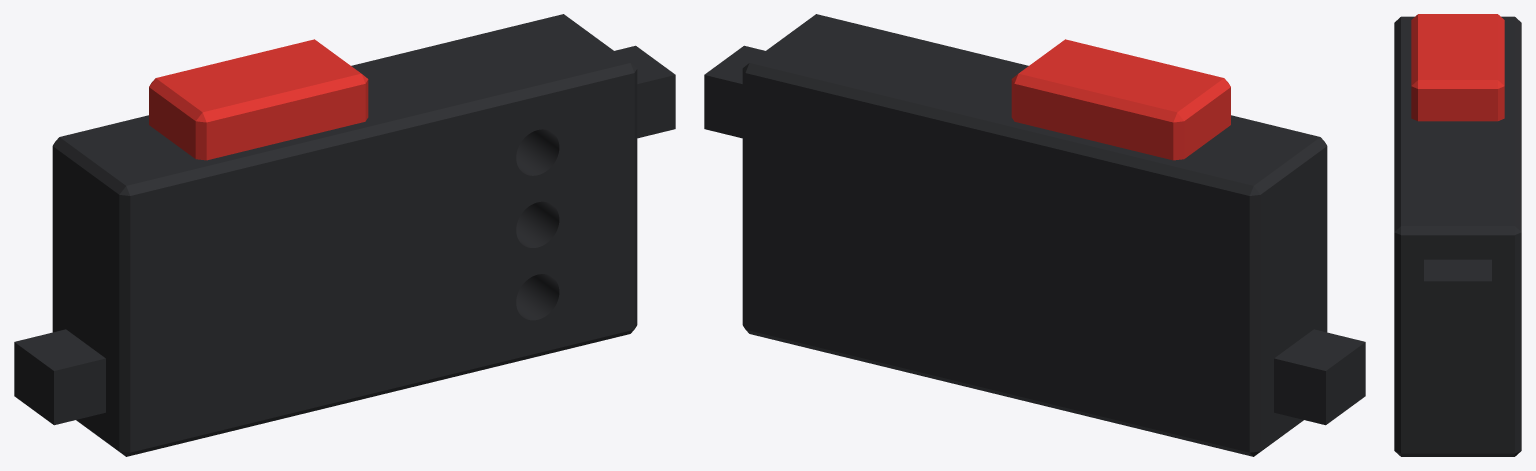
Rendered from mini_switch.glb.
3 renders of one model, left to right at view 1: azimuth 30°, elevation 25°; view 2: azimuth 150°, elevation 25°; view 3: azimuth 270°, elevation 25°, orthographic. The views are drawn at different scales.
Visible parts, largest first — view 1: housing, actuator, mounting_tabs; view 2: housing, actuator, mounting_tabs; view 3: housing, actuator, mounting_tabs.
Boxes of the visible parts, x1=… form: housing: x1=52, y1=14, x2=637, y2=456; actuator: x1=149, y1=39, x2=368, y2=160; mounting_tabs: x1=14, y1=45, x2=675, y2=425; housing: x1=742, y1=14, x2=1327, y2=456; actuator: x1=1011, y1=39, x2=1230, y2=160; mounting_tabs: x1=704, y1=45, x2=1365, y2=425; housing: x1=1394, y1=16, x2=1521, y2=456; actuator: x1=1411, y1=14, x2=1504, y2=121; mounting_tabs: x1=1424, y1=259, x2=1491, y2=327.
Size of the model in its own units: 0.036 by 0.0175 by 0.0075.
